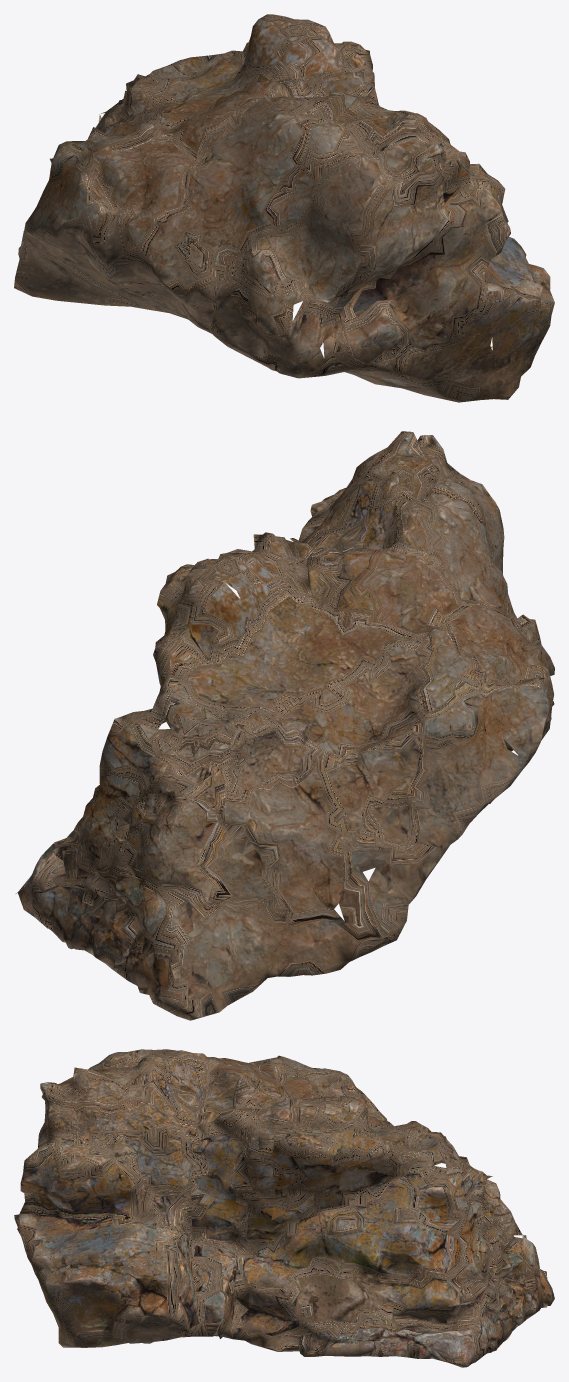
The model's file is boulder_01_mobile.gltf.
The picture shows the model from 3 angles, top to bottom: view 1: azimuth 30°, elevation 25°; view 2: azimuth 150°, elevation 25°; view 3: azimuth 270°, elevation 25°; orthographic projection. The views are drawn at different scales.
Visible parts, largest first — view 1: boulder_01; view 2: boulder_01; view 3: boulder_01.
Boxes of the visible parts, x1,y1,x2,y2 form: boulder_01: [14, 14, 554, 402]; boulder_01: [16, 431, 554, 1020]; boulder_01: [14, 1049, 554, 1367].
Size of the model in its own units: 1.25 by 0.9827 by 1.82.
1 material, 1 textured.
